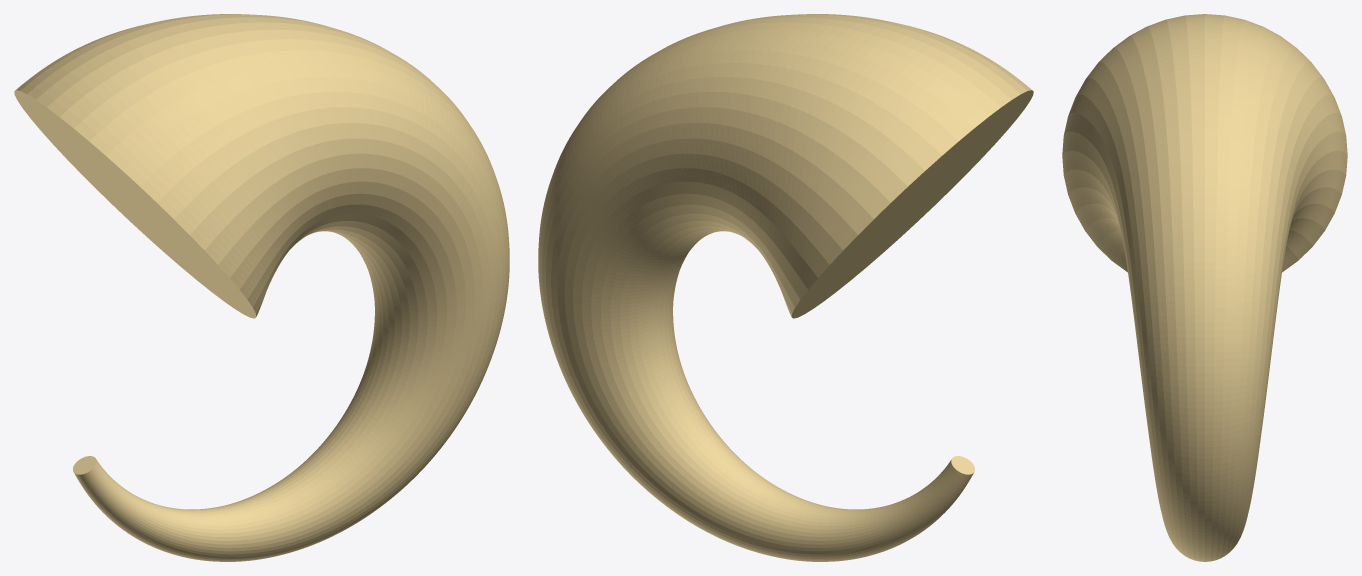
Rendered from magatama.glb.
3 renders of one model, left to right at view 1: azimuth 30°, elevation 25°; view 2: azimuth 150°, elevation 25°; view 3: azimuth 270°, elevation 25°, orthographic. The views are drawn at different scales.
Visible parts, largest first — view 1: world; view 2: world; view 3: world.
Boxes of the visible parts, box(x1,y1,x2,y2) form: world: box(14, 14, 509, 561); world: box(538, 14, 1033, 561); world: box(1062, 14, 1347, 561).
Bounding box in the file's own units: 3.15 × 3.6 × 1.99.
